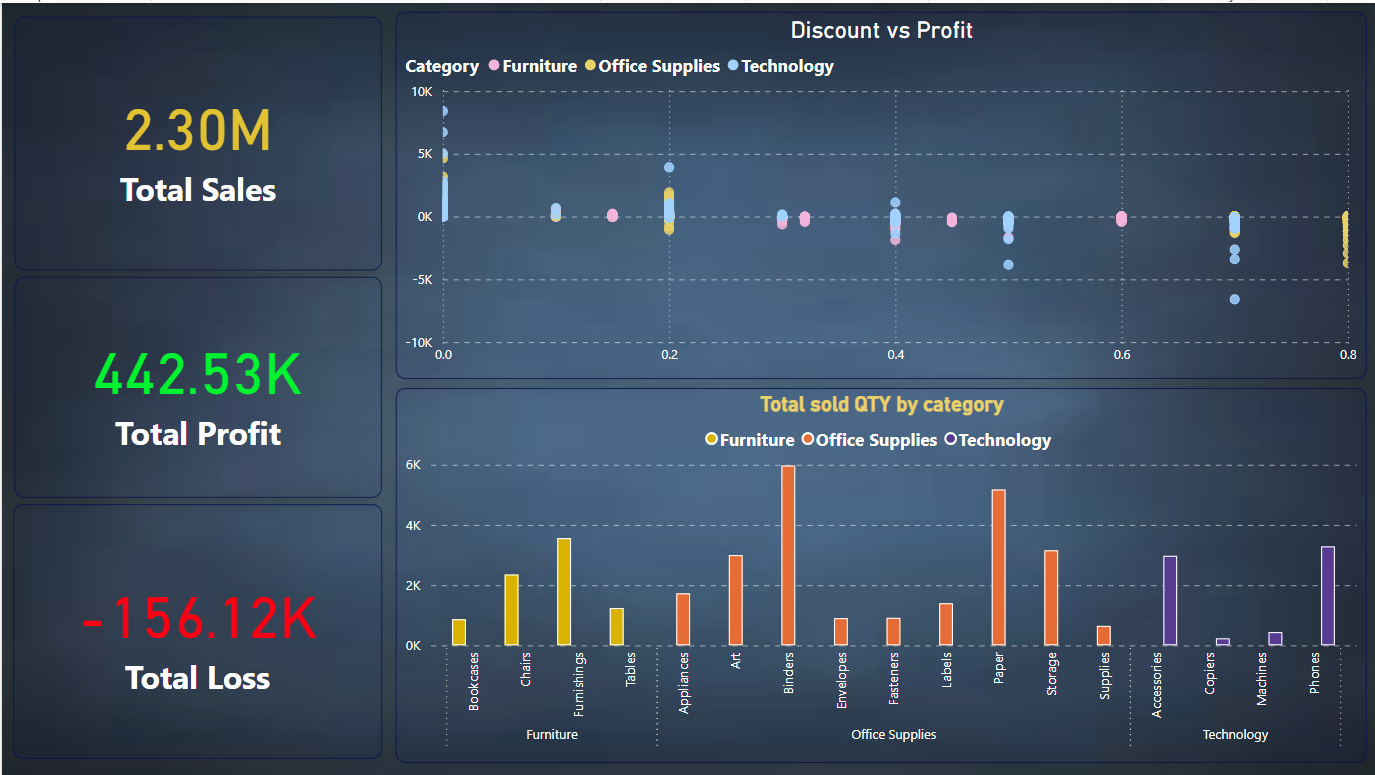

The dashboard page shown, as its layout file describes it:
{"tool":"powerbi","page":{"name":"Duplicate of Duplicate of Monthly Trends","canvas":[1280,720],"ordinal":2},"visuals":[{"type":"card","fields":{"Values":["Superstore.TotalSale_y"]},"box":[390,1258,314,662],"z":0},{"type":"scatterChart","title":"Discount vs Profit","fields":{"X":["Sum(Sheet1.Discount)"],"Series":["Sheet1.Category"],"Y":["Sheet1.Profit"]},"box":[365.7,8.6,902.9,341.4],"z":1000},{"type":"card","fields":{"Values":["Sheet1.total_sales"]},"box":[11.4,12.9,341.4,235.7],"z":2000},{"type":"card","fields":{"Values":["Superstore.Count Of Profit"]},"box":[11.4,254.3,341.4,205.7],"z":3000},{"type":"card","fields":{"Values":["Superstore.Total Loss"]},"box":[10,465.7,342.9,237.1],"z":4000},{"type":"clusteredColumnChart","title":"Total sold QTY by category","fields":{"Category":["Superstore.Category","Superstore.Sub-Category"],"Y":["Sum(Superstore.Quantity)"],"Series":["Superstore.Category"]},"box":[365.7,358.6,902.9,348.6],"z":5000}]}

Visuals, with their boxes in screenshot pixels (x1, y1, x2, y2), scaled from the page's 1280x720 canvas onto the 1375x775 screenshot:
"Discount vs Profit" scatterChart: Rect(393, 9, 1363, 377)
card - Sheet1.total_sales: Rect(12, 14, 379, 268)
card - Superstore.Count Of Profit: Rect(12, 274, 379, 495)
card - Superstore.Total Loss: Rect(11, 501, 379, 756)
"Total sold QTY by category" clusteredColumnChart: Rect(393, 386, 1363, 761)
